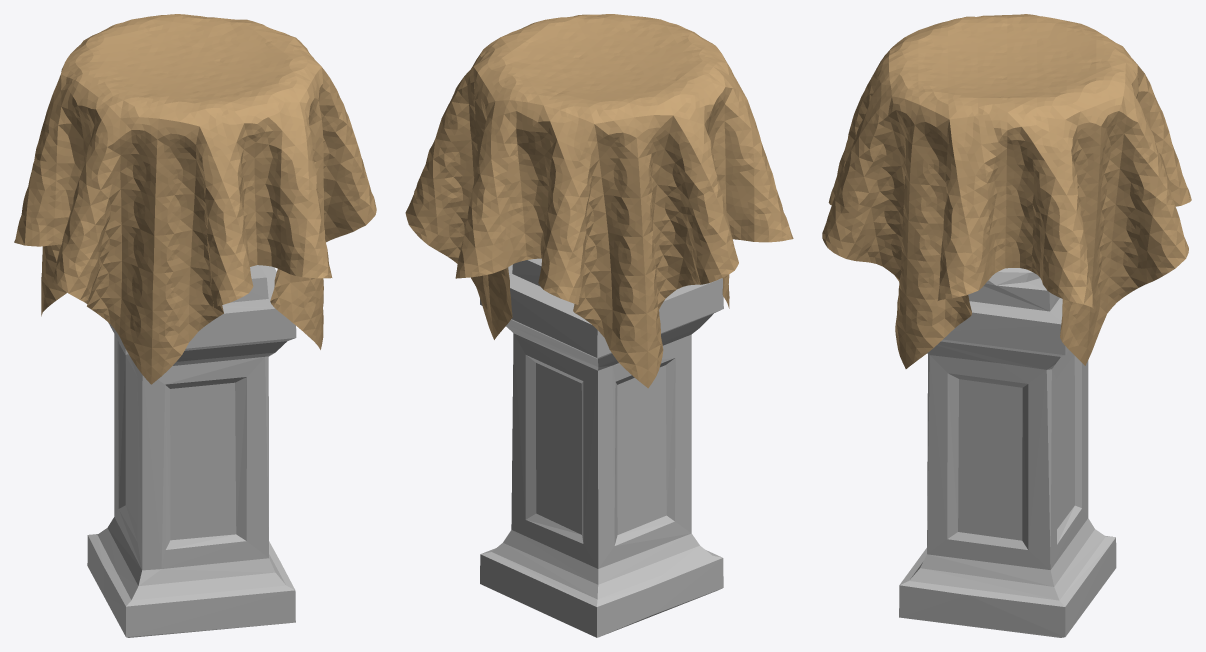
The model's file is level_2.glb.
The picture shows the model from 3 angles, left to right: view 1: azimuth 30°, elevation 25°; view 2: azimuth 150°, elevation 25°; view 3: azimuth 270°, elevation 25°; orthographic projection.
Visible parts, largest first — view 1: world, object.obj; view 2: world, object.obj; view 3: world, object.obj.
Part boxes in pixels (x1,y1,x2,y2): world: (14,14,376,384); object.obj: (87,265,296,637); world: (405,14,793,388); object.obj: (480,258,723,637); world: (822,14,1191,368); object.obj: (899,268,1116,637).
Size of the model in its own units: 0.3056 by 0.4815 by 0.3019.
